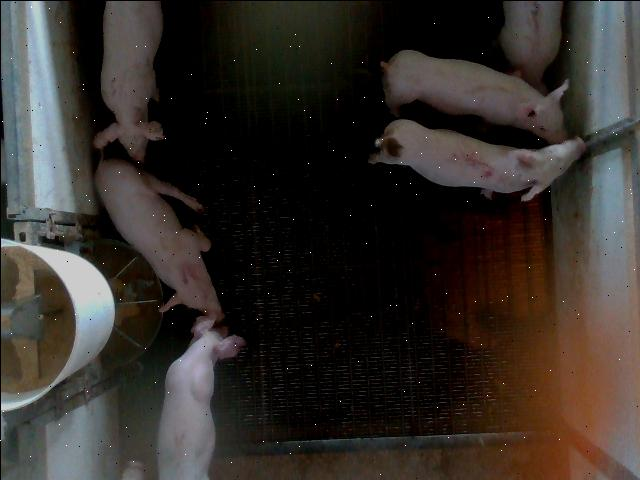pig-5: (368, 118, 584, 199)
